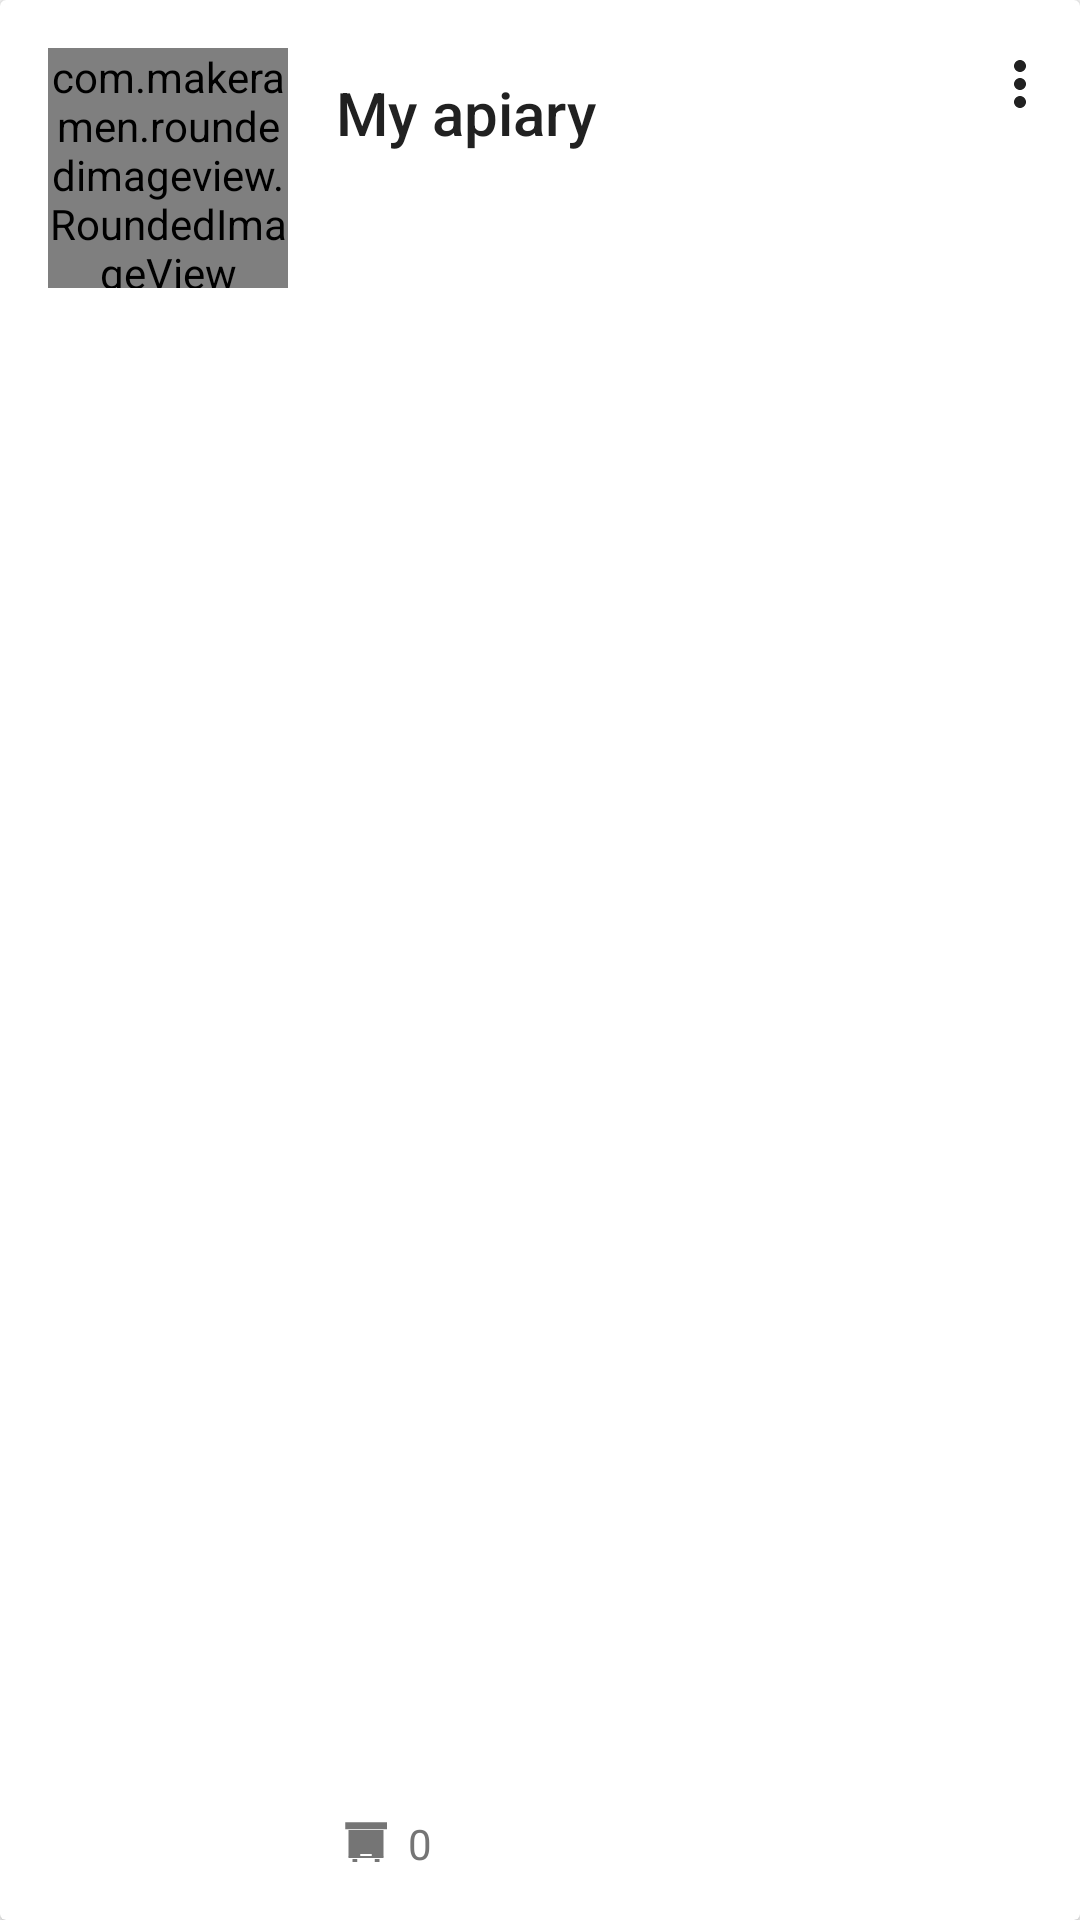

Icon bounding boxes for this 1080×1920 phone screenshot, format (x1, y1, x2, y2):
More…: (1014, 60, 1026, 108)
Number of hives: (345, 1822, 387, 1862)
